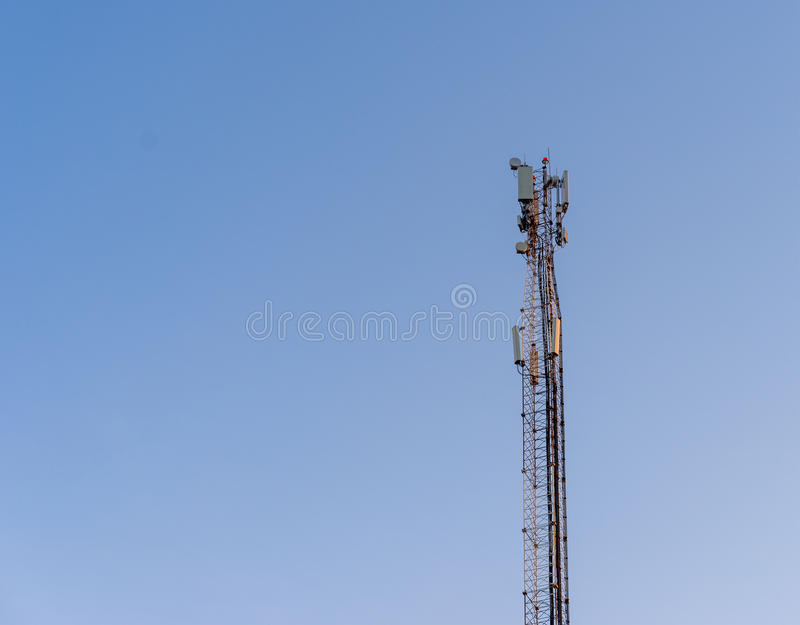sa: (516, 155, 536, 212), (542, 312, 561, 358), (509, 327, 527, 361)
